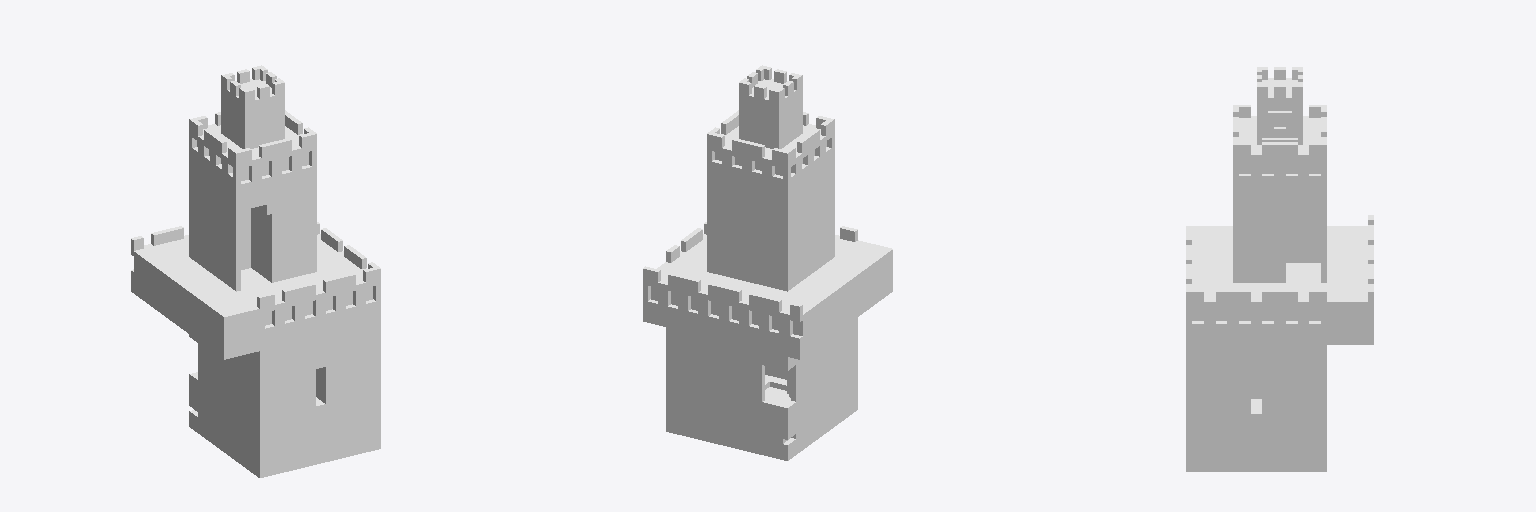
Rendered from lvl-1.obj.
3 renders of one model, left to right at view 1: azimuth 30°, elevation 25°; view 2: azimuth 150°, elevation 25°; view 3: azimuth 270°, elevation 25°, orthographic.
Visible parts, largest first — view 1: object 1; view 2: object 1; view 3: object 1.
Boxes of the visible parts, x1,y1,x2,y2 form: object 1: [131, 65, 380, 477]; object 1: [643, 65, 892, 460]; object 1: [1186, 67, 1373, 471].
Size of the model in its own units: 3.1 by 6.7 by 3.2.